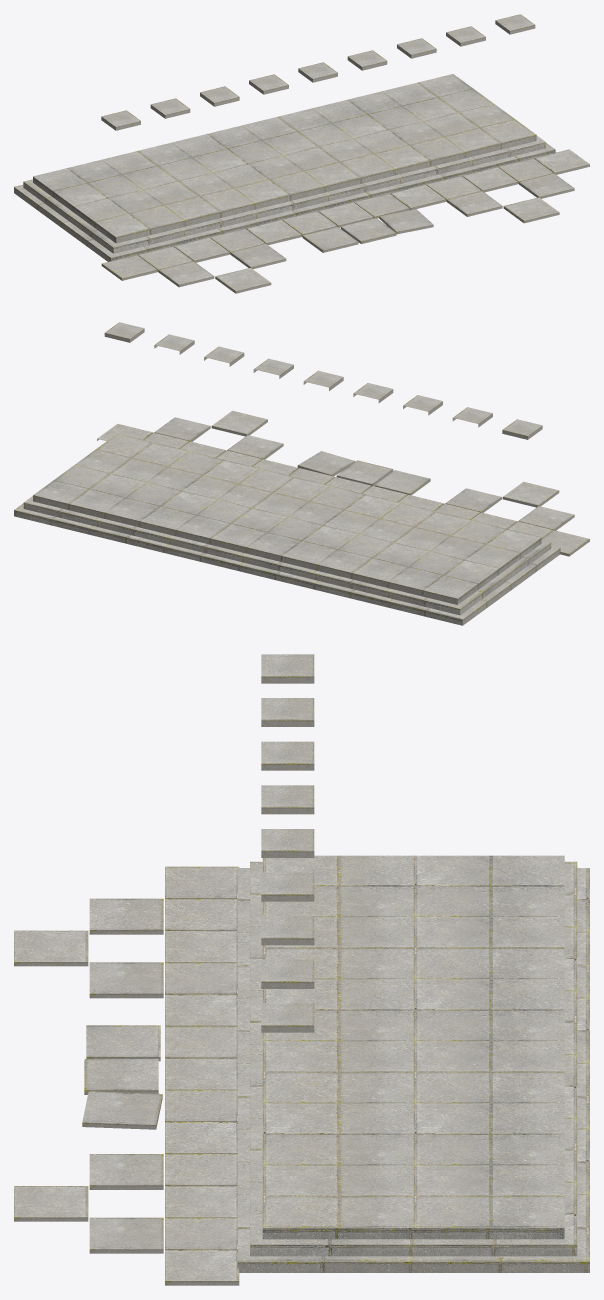
Rendered from hele_stoa2_tiles.dae.
3 renders of one model, top to bottom at view 1: azimuth 30°, elevation 25°; view 2: azimuth 150°, elevation 25°; view 3: azimuth 270°, elevation 25°, orthographic. The views are drawn at different scales.
Parts seen in each view (by area): view 1: tiles02-Pivot; view 2: tiles02-Pivot; view 3: tiles02-Pivot.
Part boxes in pixels (x1,y1,x2,y2): tiles02-Pivot: (14,14,589,293); tiles02-Pivot: (14,322,589,625); tiles02-Pivot: (14,654,589,1285).
Size of the model in its own units: 28.08 by 16.49 by 7.43.
